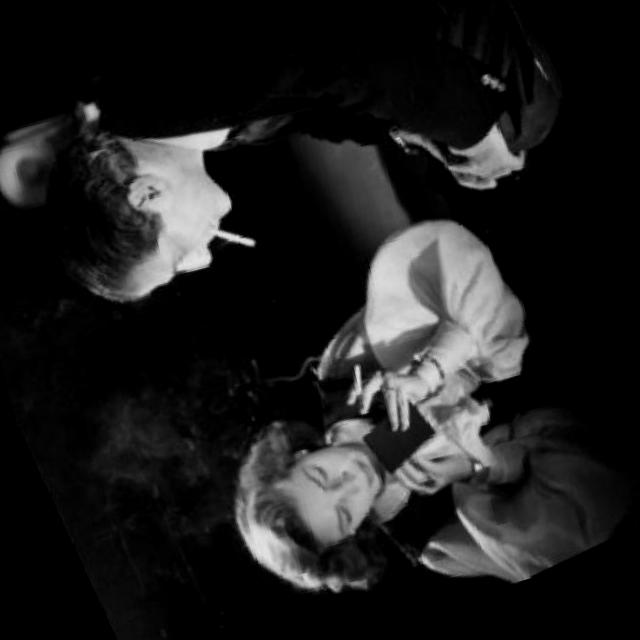cigarette: (204, 206, 260, 260), (340, 356, 372, 398)
